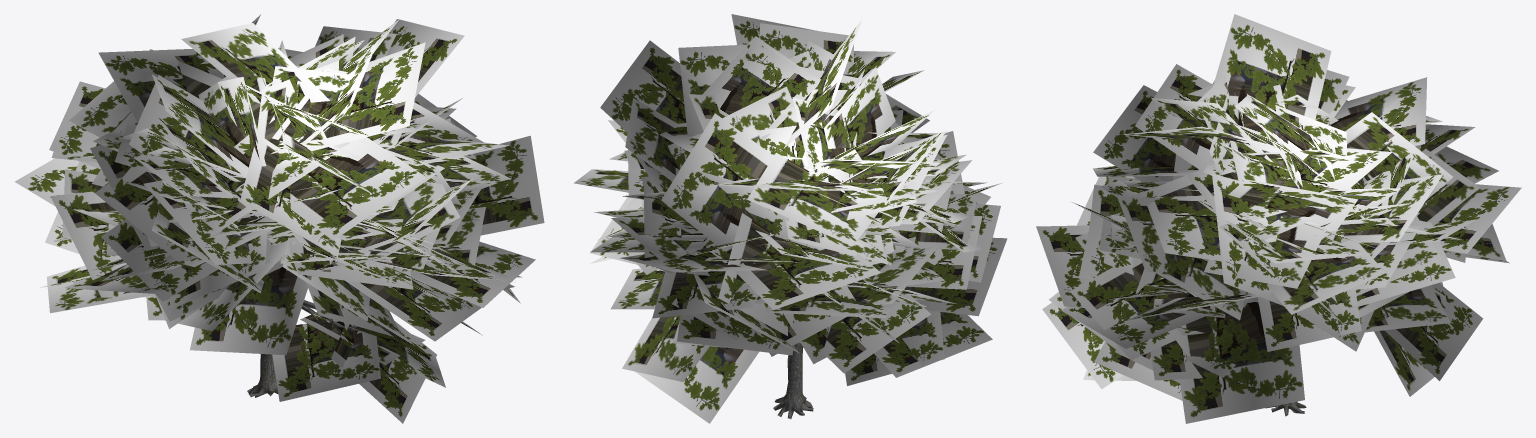
The model's file is Tree.fbx.
The picture shows the model from 3 angles, left to right: view 1: azimuth 30°, elevation 25°; view 2: azimuth 150°, elevation 25°; view 3: azimuth 270°, elevation 25°; orthographic projection. The views are drawn at different scales.
Parts seen in each view (by area): view 1: tree.001; view 2: tree.001; view 3: tree.001.
Boxes of the visible parts, x1,y1,x2,y2 form: tree.001: [14, 14, 544, 423]; tree.001: [574, 14, 1007, 423]; tree.001: [1036, 14, 1521, 423].
Size of the model in its own units: 1722 by 1500 by 1749.
